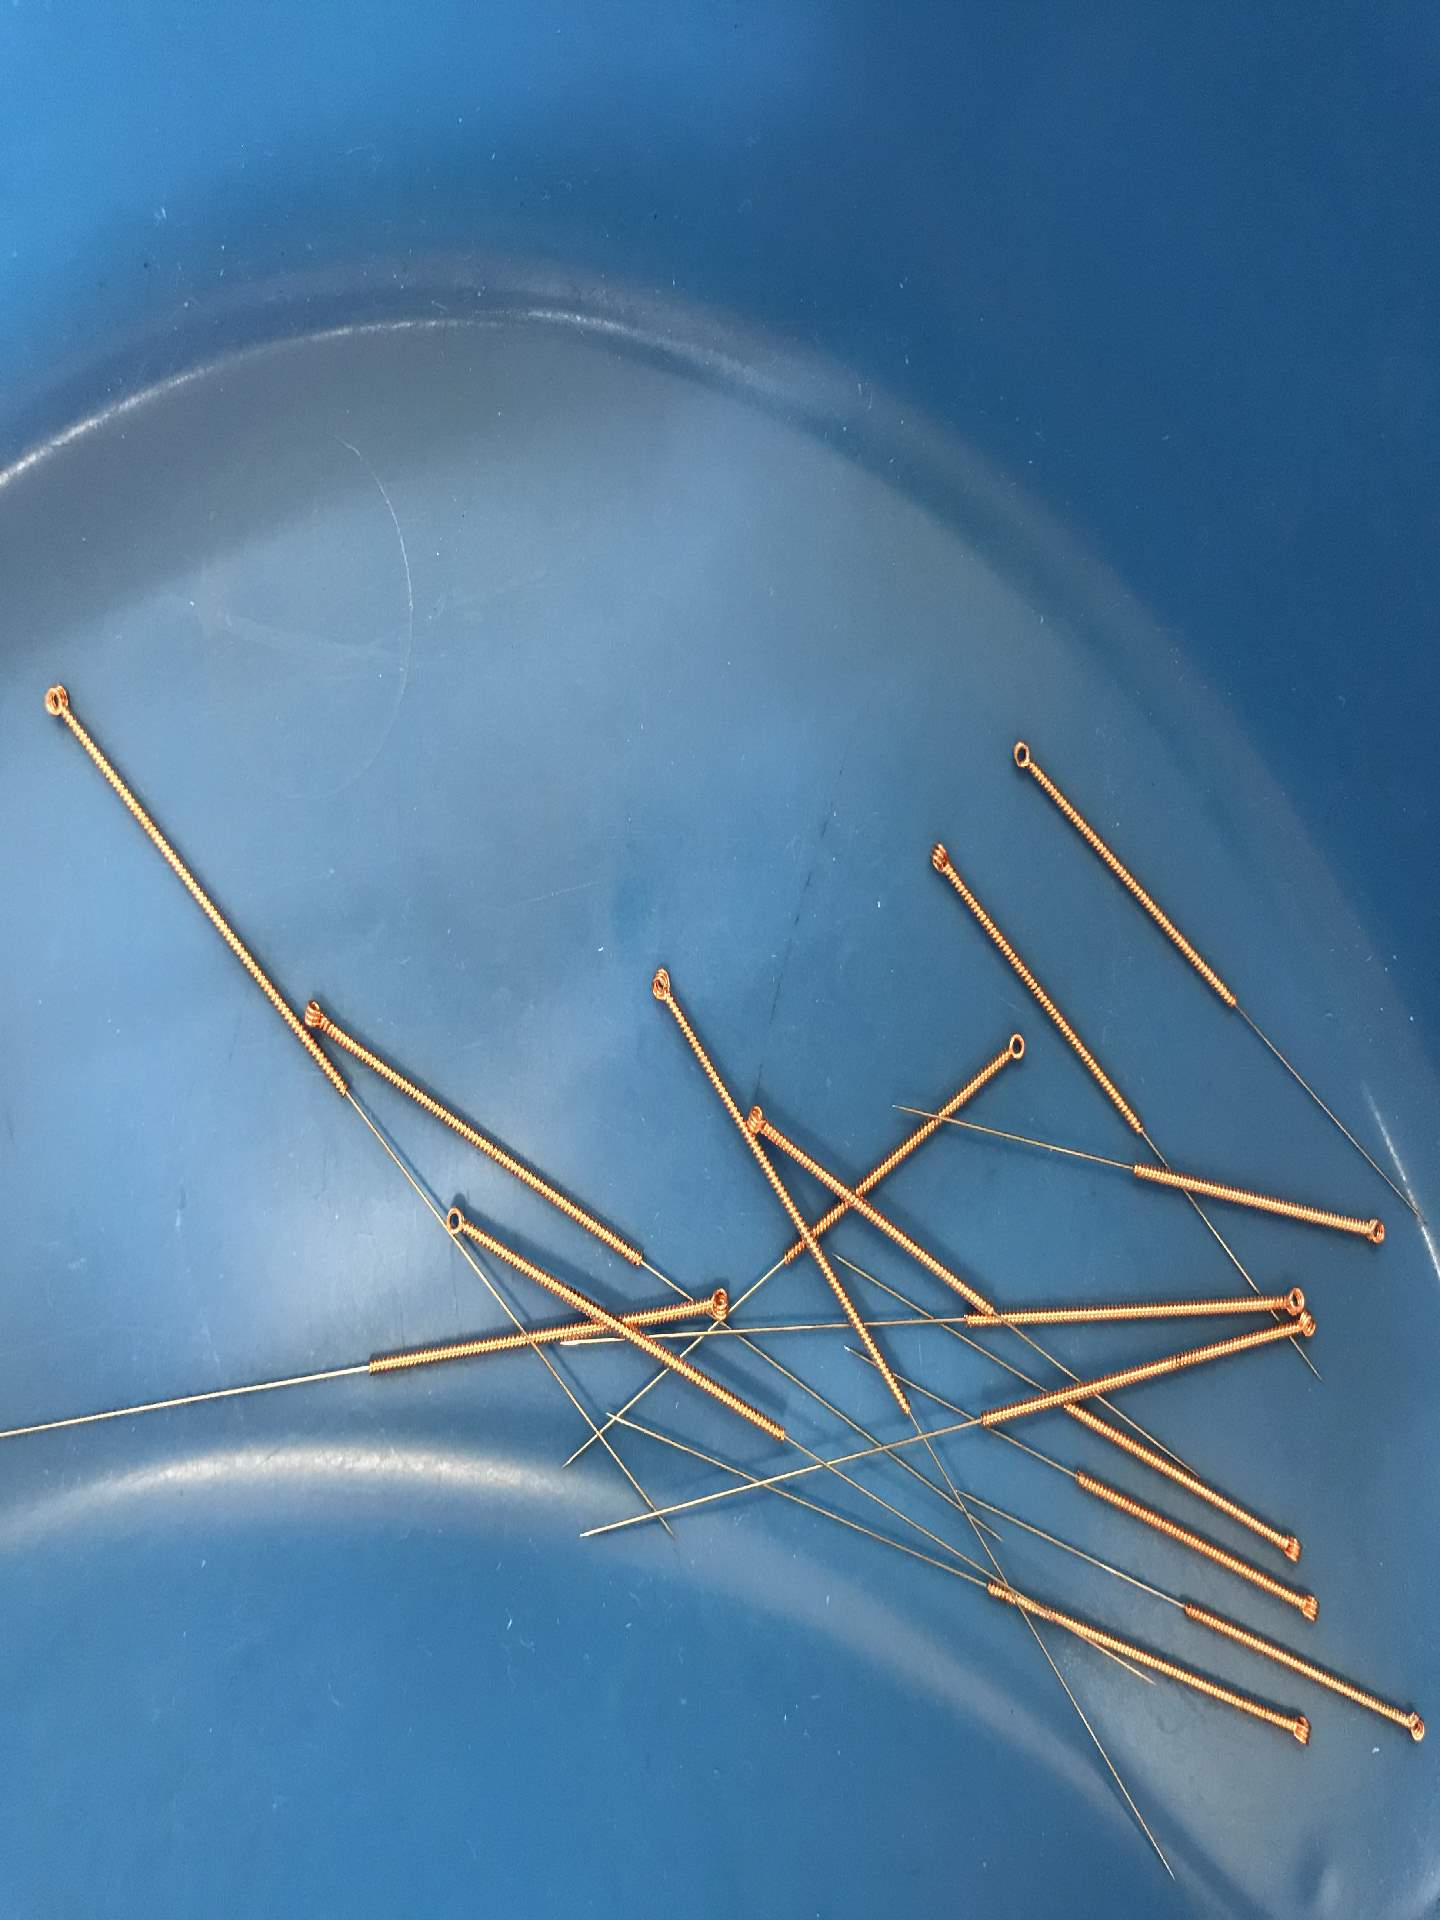needle: (995, 724, 1051, 788), (1336, 1206, 1404, 1258), (914, 827, 967, 892), (684, 1277, 746, 1332), (980, 1020, 1036, 1079), (30, 673, 82, 735), (1266, 1702, 1322, 1758), (430, 1191, 479, 1250), (1275, 1578, 1333, 1628), (1258, 1265, 1307, 1318), (643, 955, 682, 1020), (1263, 1521, 1313, 1569), (1384, 1702, 1432, 1751), (299, 992, 346, 1036), (744, 1092, 788, 1138), (1283, 1311, 1324, 1349)
